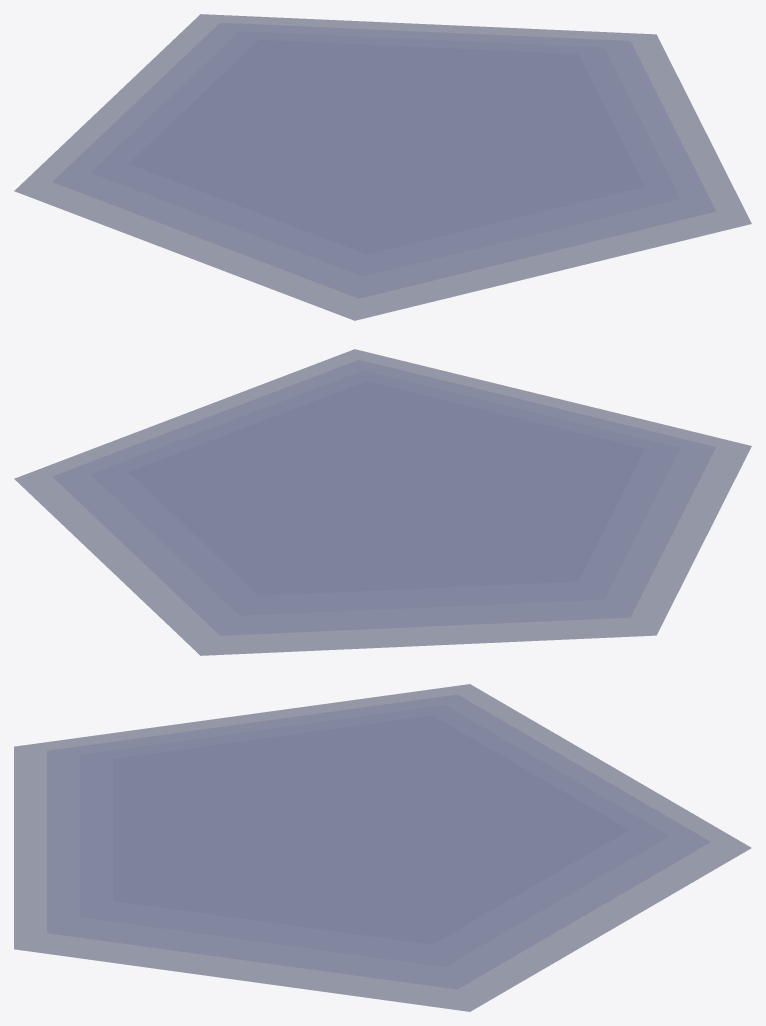
File: fog-penta.glb
The picture shows the model from 3 angles, top to bottom: view 1: azimuth 30°, elevation 25°; view 2: azimuth 150°, elevation 25°; view 3: azimuth 270°, elevation 25°; orthographic projection. The views are drawn at different scales.
Parts seen in each view (by area): view 1: fog_penta, fog_penta.001; view 2: fog_penta, fog_penta.001; view 3: fog_penta, fog_penta.001.
Part boxes in pixels (<box>): fog_penta: <box>14,14,751,320</box>; fog_penta.001: <box>53,23,715,297</box>; fog_penta: <box>14,349,751,655</box>; fog_penta.001: <box>53,360,715,635</box>; fog_penta: <box>14,684,750,1011</box>; fog_penta.001: <box>47,695,709,988</box>.
Size of the model in its own units: 1.18 by 0.03 by 1.12.
